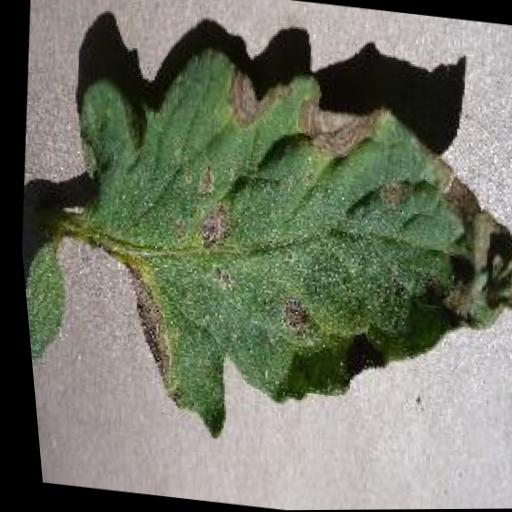Early Blight: (35, 39, 512, 475)
